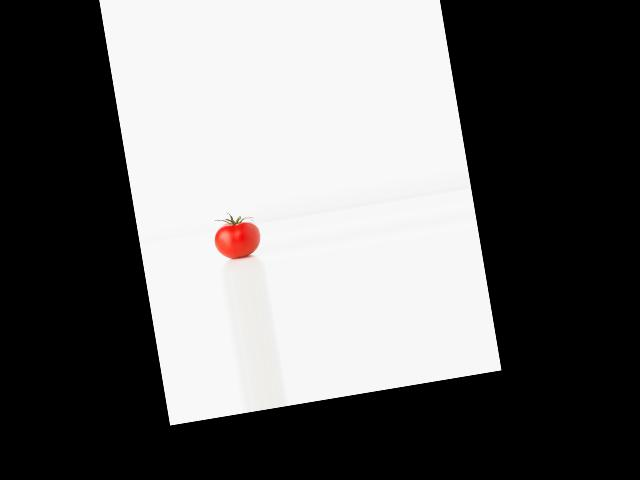tomato: (211, 219, 262, 260)
